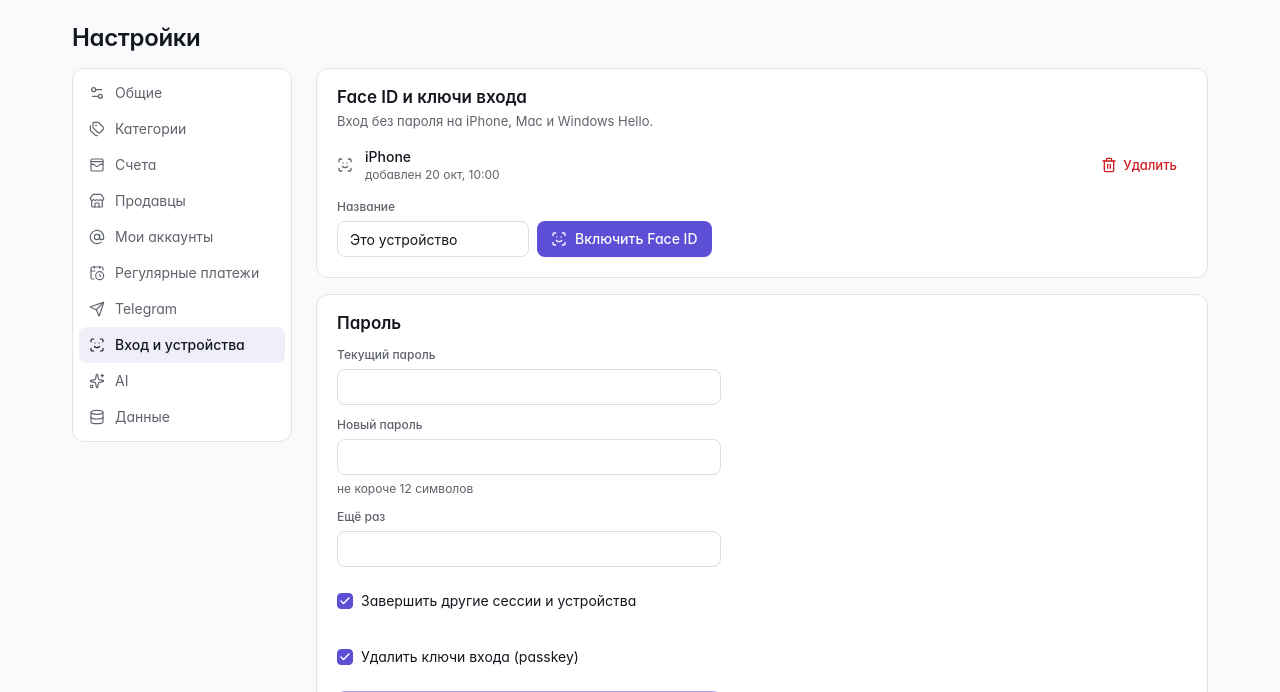
Test: passkey registration needs the password on an old session › no password first; 403 reauth_required → password dialog → options with the password
Replace the text in the field labelled "Название" with "Mac". click: (433,239)
box: [337,221,529,257]
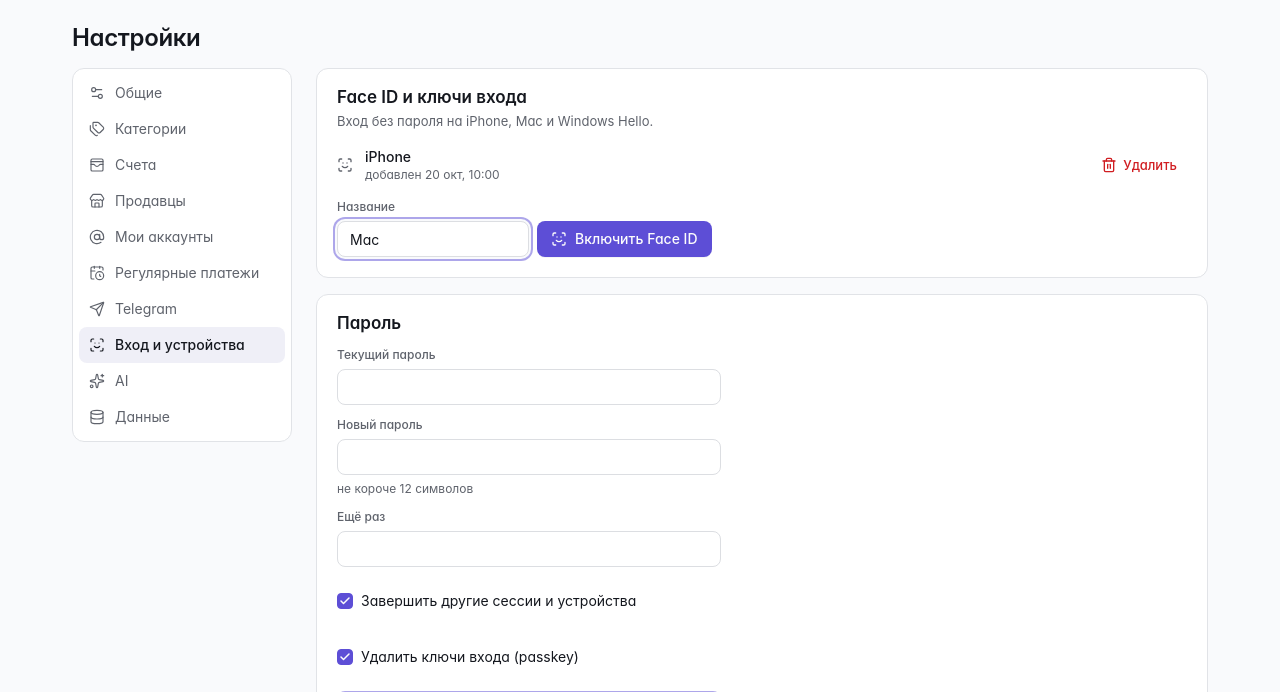
Click the button "Включить Face ID". click: (624,239)
box: [537,221,712,257]
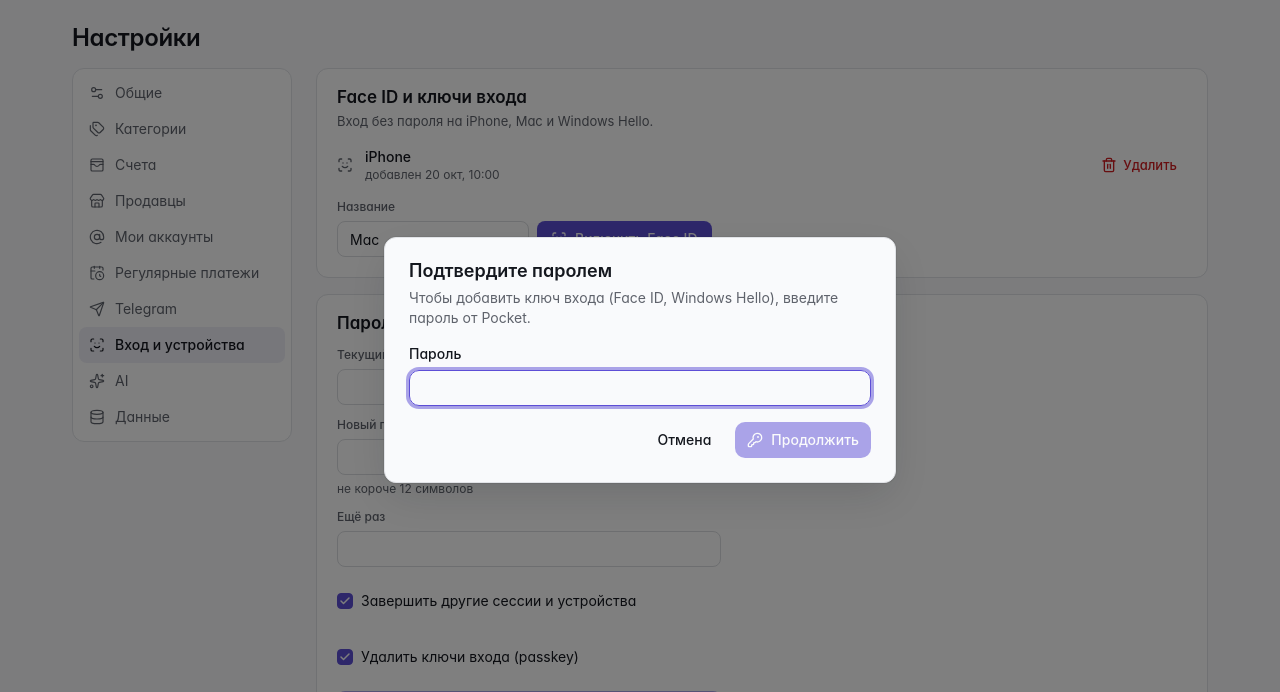
// a wrong password is a form error, not a lost session
Type "nope" into the password field labelled "Пароль". click: (640,388)
box: [409,370,871,406]
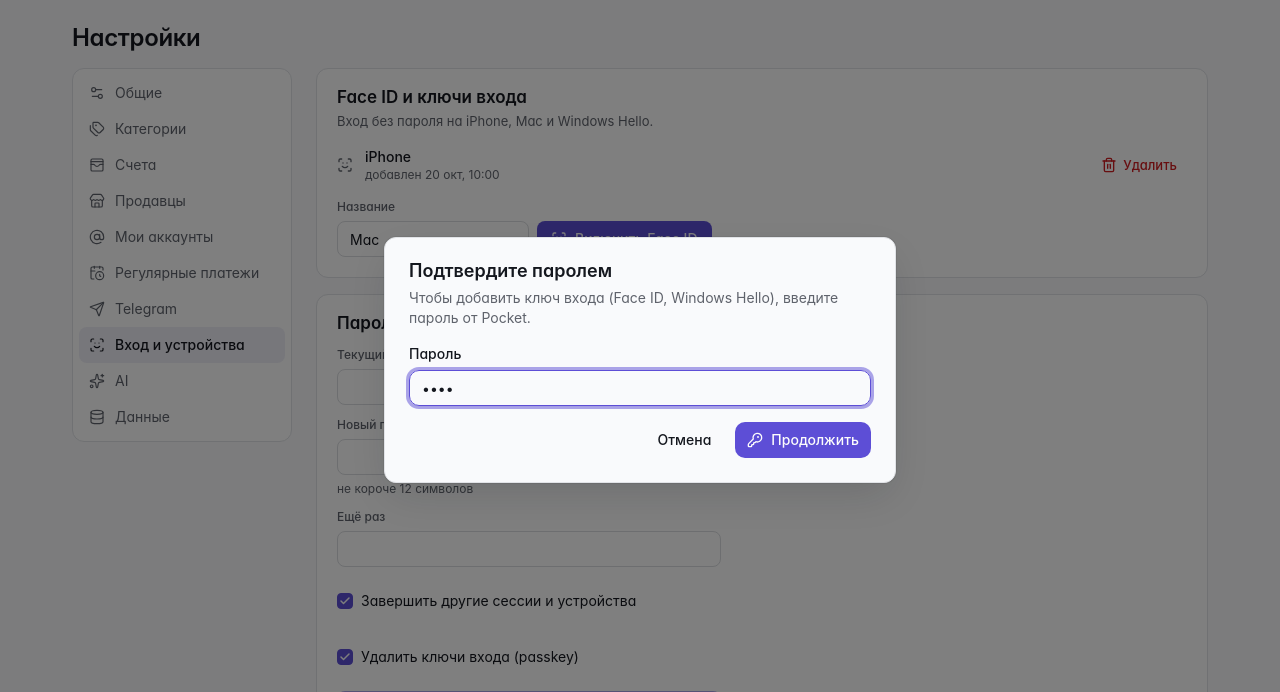
Click the button "Продолжить". click: (803,440)
box: [735,422,871,458]
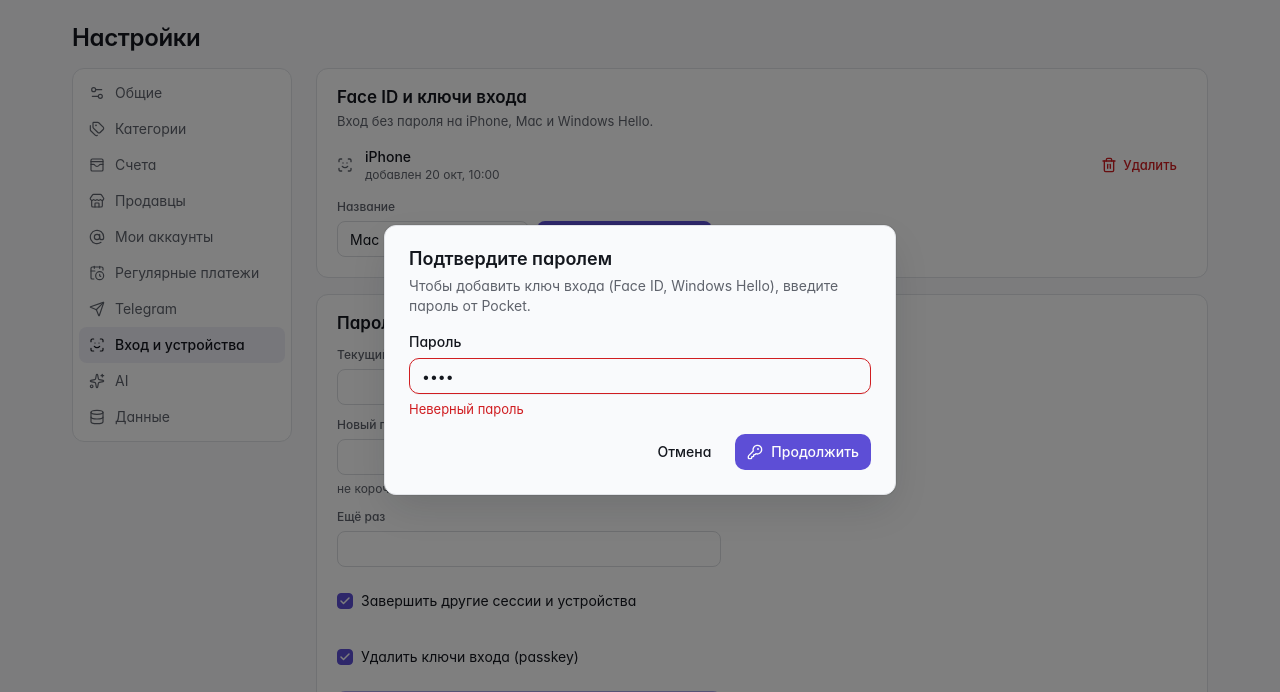
Check: the message reads "Неверный пароль", box [409,401,524,417]
Type "correct horse battery" into the password field labelled "Пароль". click: (640,376)
box: [409,358,871,394]
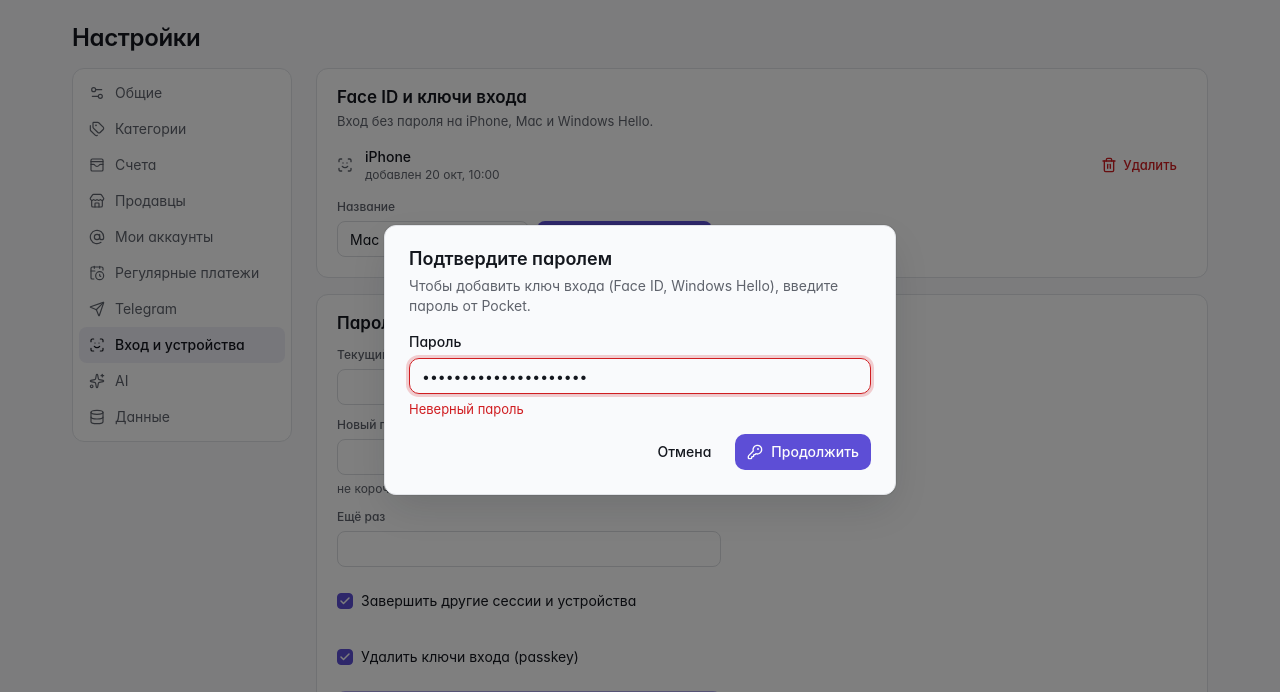
Click the button "Продолжить". click: (803,452)
box: [735,434,871,470]
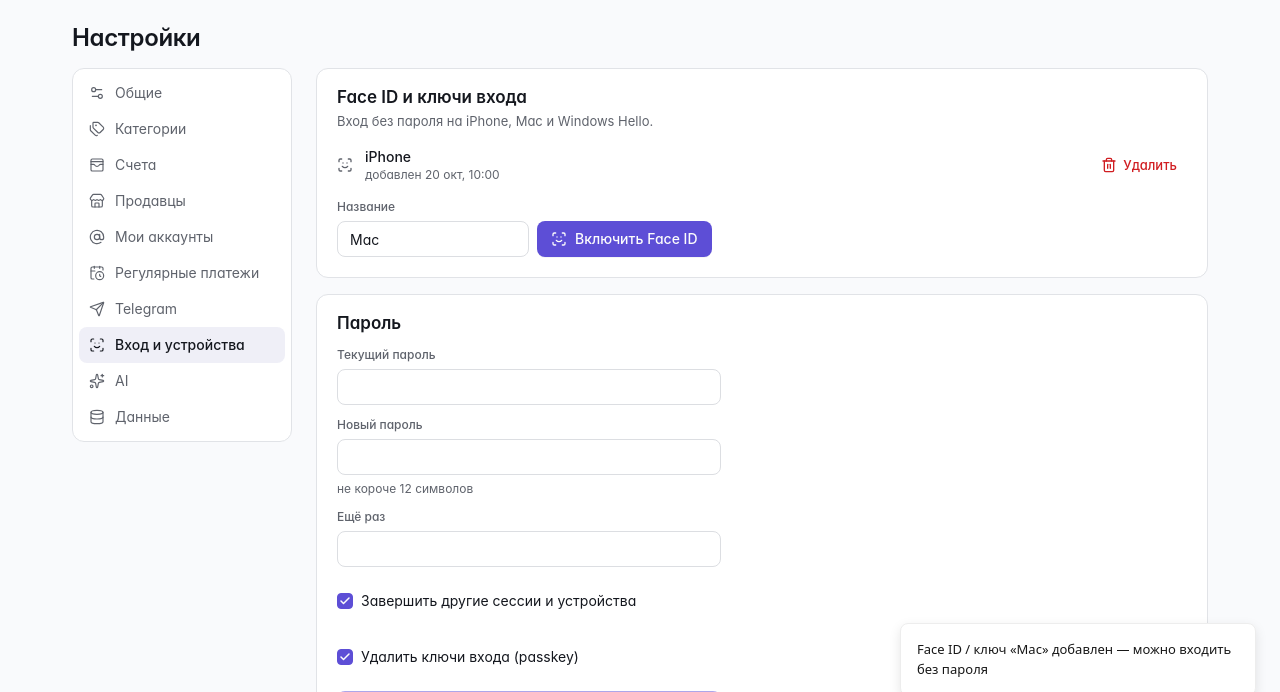
Check: the dialog with test id "passkey-password-dialog" is gone
